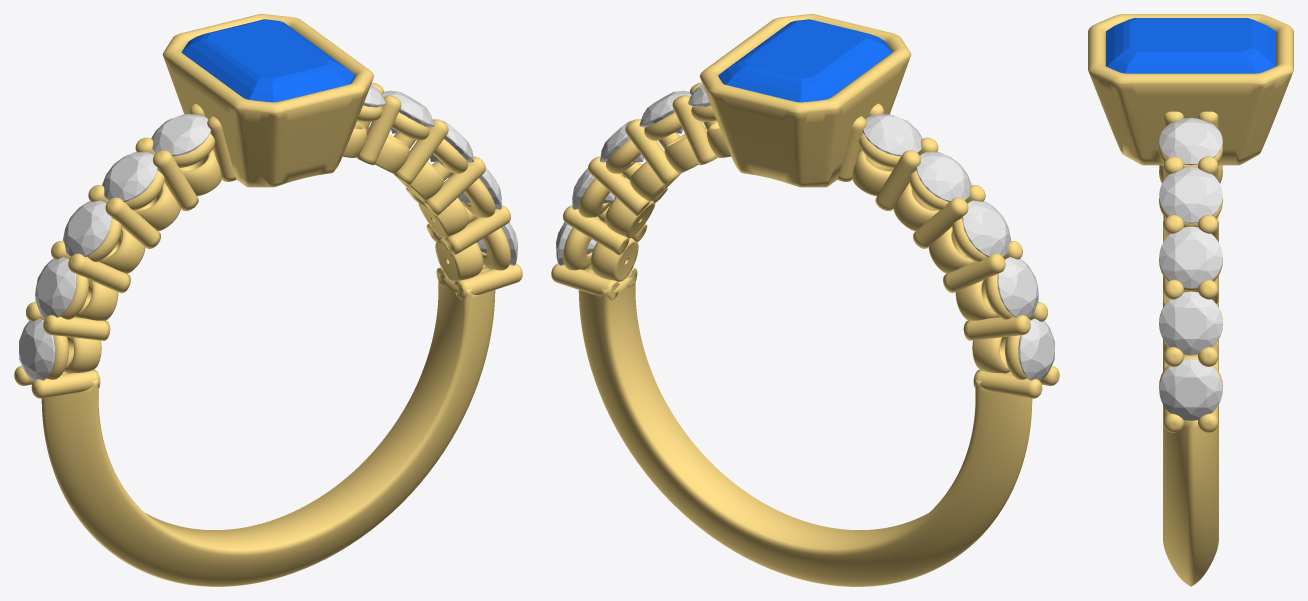
Rendered from bluesapphire-emerald-yellowgold-bezelset-knifeedge-11stone.glb.
3 renders of one model, left to right at view 1: azimuth 30°, elevation 25°; view 2: azimuth 150°, elevation 25°; view 3: azimuth 270°, elevation 25°, orthographic.
Parts seen in each view (by area): view 1: metal.002, stone.001, side.014, side.015, side.013, side.016, side.001, side.018; view 2: metal.002, stone.001, side.014, side.015, side.013, side.016, side.001, side.018; view 3: metal.002, stone.001, side.020, side.021, side.019, side.018, side.017.
Part boxes in pixels (left/top/right/bottom): metal.002: left=14, top=14, right=522, bottom=586; stone.001: left=181, top=19, right=355, bottom=102; side.014: left=63, top=200, right=111, bottom=256; side.015: left=102, top=152, right=157, bottom=201; side.013: left=35, top=257, right=76, bottom=317; side.016: left=151, top=114, right=210, bottom=156; side.001: left=19, top=318, right=55, bottom=380; side.018: left=382, top=90, right=434, bottom=133; metal.002: left=551, top=14, right=1059, bottom=586; stone.001: left=718, top=19, right=892, bottom=102; side.014: left=962, top=200, right=1010, bottom=256; side.015: left=916, top=152, right=971, bottom=201; side.013: left=997, top=257, right=1038, bottom=317; side.016: left=863, top=114, right=922, bottom=156; side.001: left=1018, top=318, right=1054, bottom=380; side.018: left=639, top=90, right=691, bottom=133; metal.002: left=1088, top=14, right=1293, bottom=586; stone.001: left=1106, top=18, right=1275, bottom=73; side.020: left=1159, top=292, right=1222, bottom=355; side.021: left=1159, top=358, right=1222, bottom=420; side.019: left=1159, top=226, right=1222, bottom=288; side.018: left=1159, top=167, right=1222, bottom=223; side.017: left=1159, top=118, right=1222, bottom=165.
Bounding box in the file's own units: 22 × 22.94 × 8.11.
